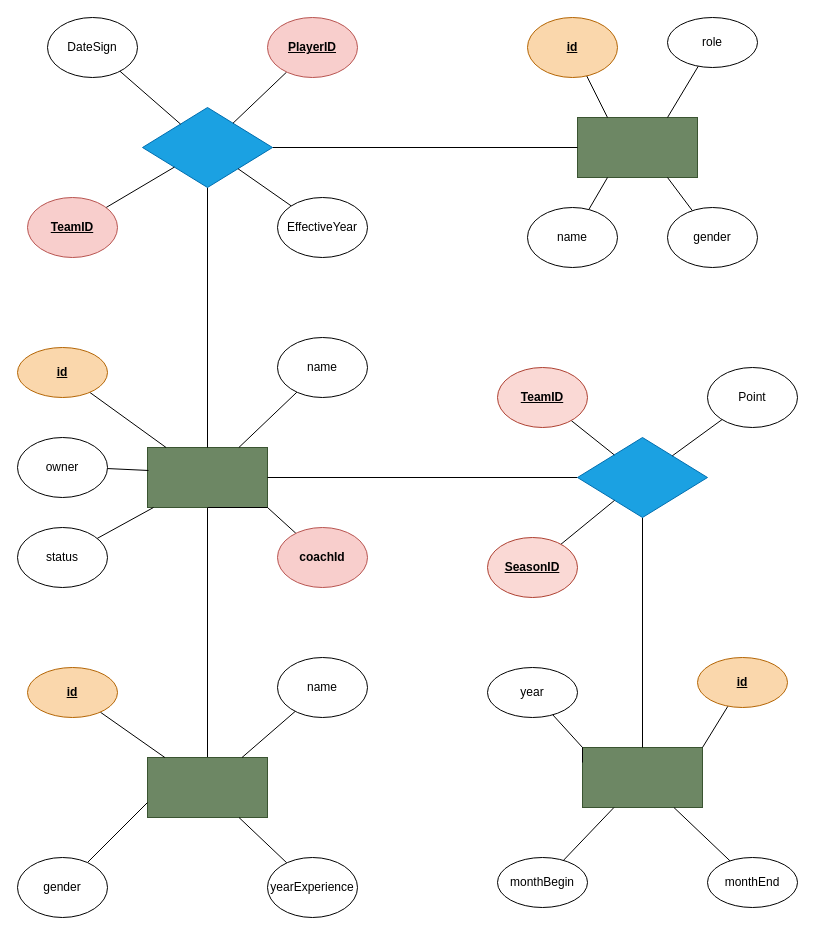
Image size: 815x935. Some labels were removed from this diagram. Each missing label, with the box of its shape:
Achievement: (576, 436, 708, 518)
Coach: (146, 756, 268, 818)
Contract: (142, 106, 272, 188)
Player: (576, 116, 698, 178)
Season: (582, 746, 702, 808)
Team: (146, 446, 268, 508)
